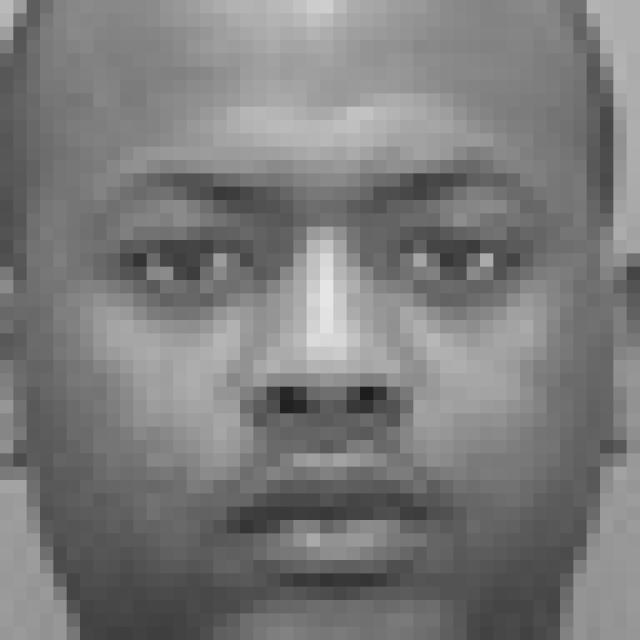neutral: (96, 145, 569, 608)
